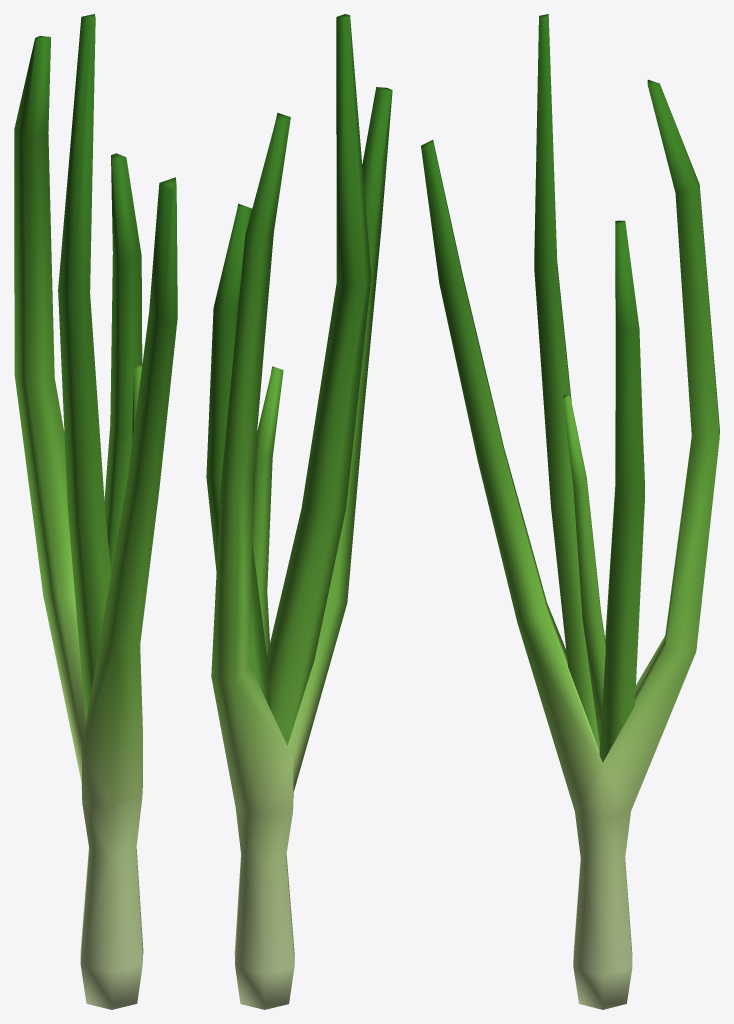
Rendered from plant_onion_S2.gltf.
3 renders of one model, left to right at view 1: azimuth 30°, elevation 25°; view 2: azimuth 150°, elevation 25°; view 3: azimuth 270°, elevation 25°, orthographic. The views are drawn at different scales.
Parts seen in each view (by area): view 1: plant_onion_S2; view 2: plant_onion_S2; view 3: plant_onion_S2.
Part boxes in pixels (x1,y1,x2,y2): plant_onion_S2: (14, 14, 177, 1009); plant_onion_S2: (206, 14, 392, 1009); plant_onion_S2: (421, 14, 719, 1009).
Size of the model in its own units: 0.0692 by 0.5825 by 0.1632.
1 material, 1 textured.
